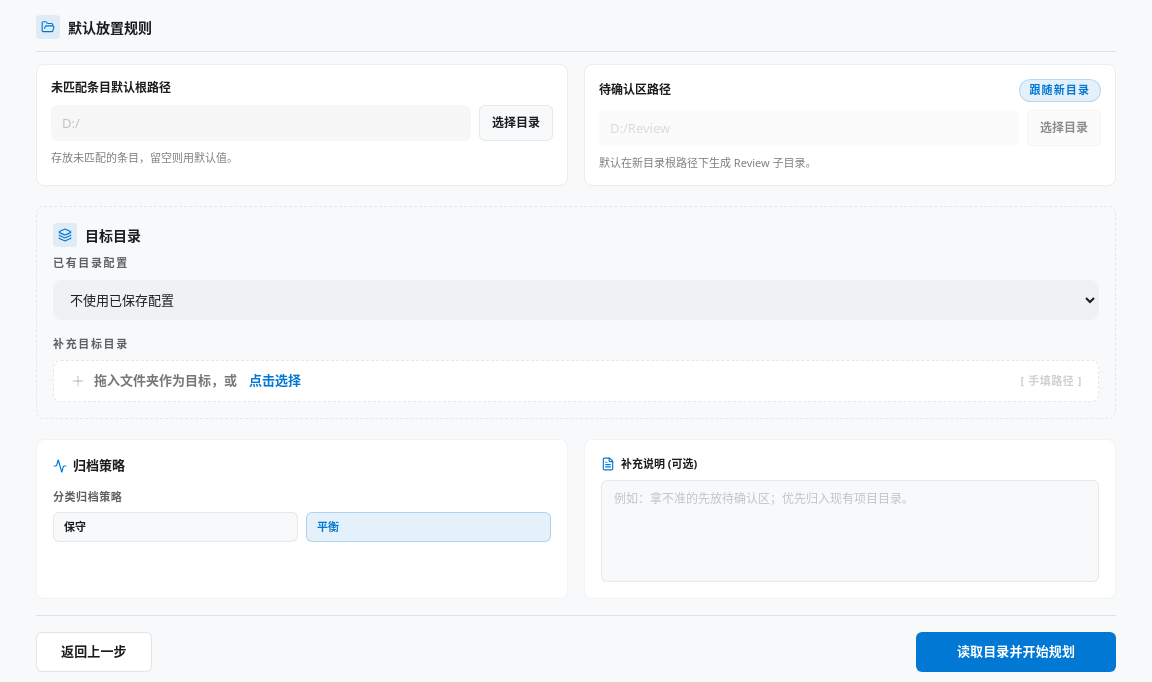
SessionLauncher › blocks assign-existing submission when the saved target profile no longer exists
This screenshot has width=1152, height=682.
(page scrolled)
What coordinates should you click on to do the following:
click the button "读取目录并开始规划"
I would click on:
 (1016, 652)
Its box is [916, 632, 1116, 672].
(page scrolled)
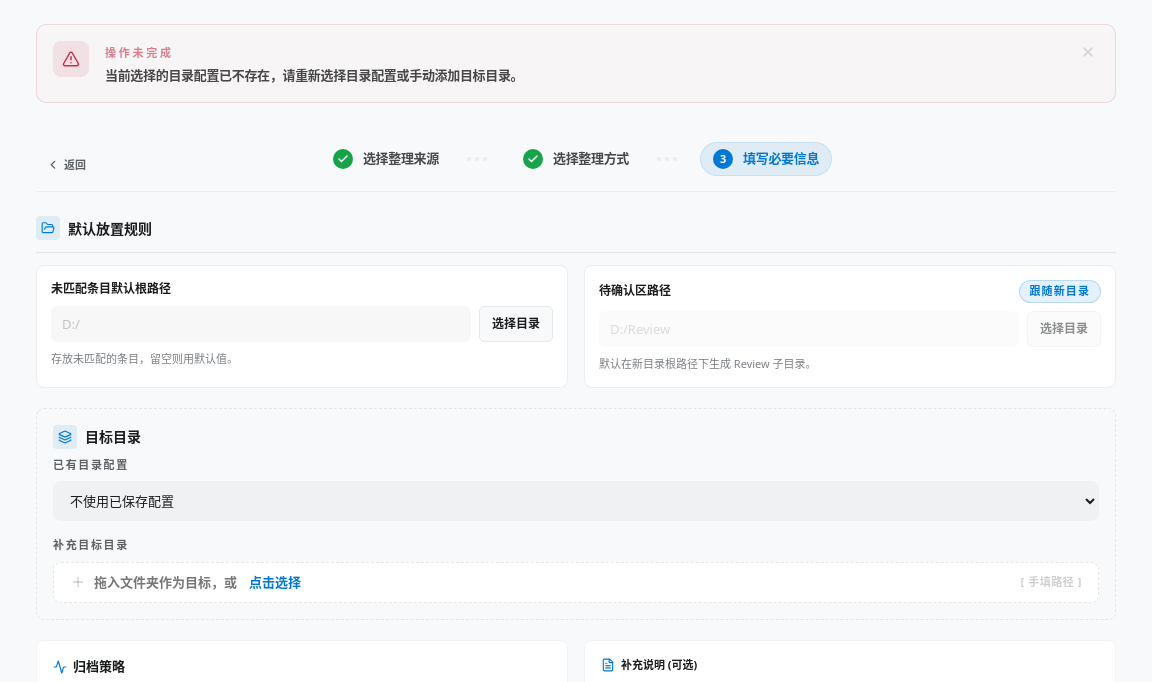
Check: the text "当前选择的目录配置已不存在，请重新选择目录配置或手动添加目标目录。" is shown, box [105, 66, 523, 84]
